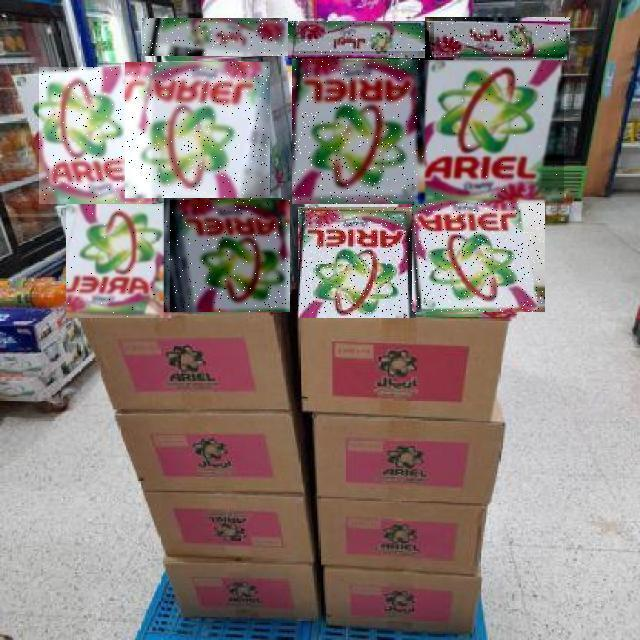Detergent: (419, 54, 565, 203), (292, 54, 425, 204), (125, 62, 270, 198), (39, 67, 152, 204), (412, 200, 545, 312), (165, 199, 287, 313), (170, 200, 290, 312), (298, 207, 416, 318), (66, 204, 171, 318), (425, 17, 570, 60), (288, 22, 434, 62), (143, 18, 289, 56)
